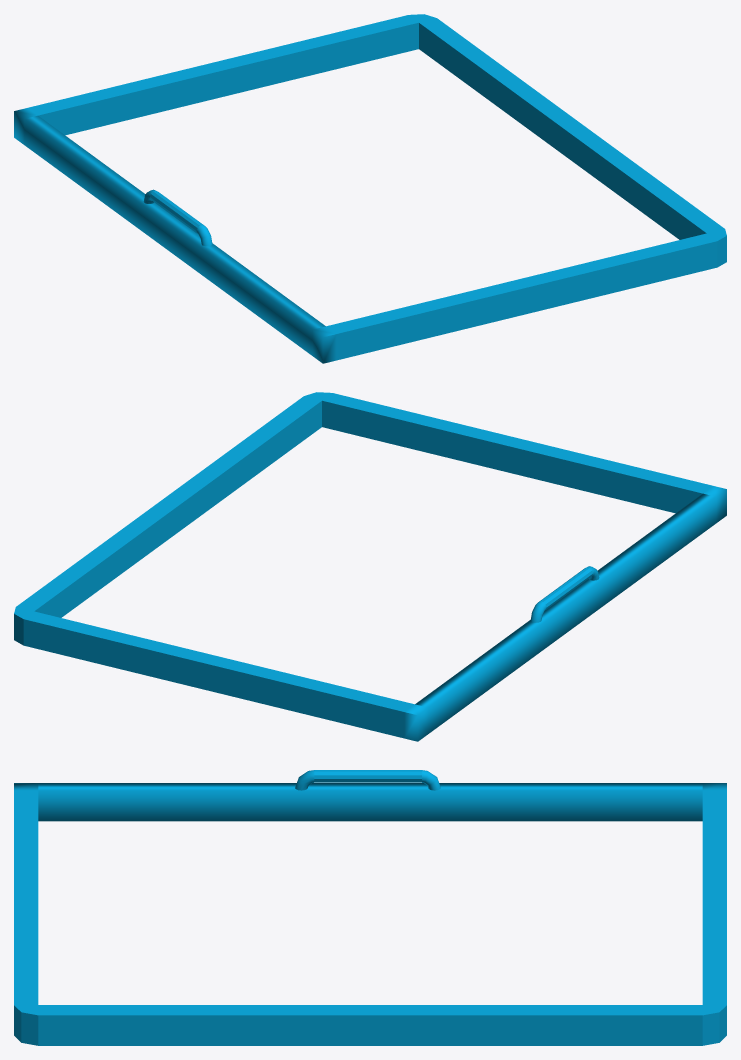
File: Shop_Fridge_02_Door_L_Lod0.fbx
3 views of the same model, one above another, from view 1: azimuth 30°, elevation 25°; view 2: azimuth 150°, elevation 25°; view 3: azimuth 270°, elevation 25° (orthographic). The views are drawn at different scales.
Visible parts, largest first — view 1: Shop_Fridge_02_Door_L_Lod0; view 2: Shop_Fridge_02_Door_L_Lod0; view 3: Shop_Fridge_02_Door_L_Lod0.
Part boxes in pixels (x1,y1,x2,y2): Shop_Fridge_02_Door_L_Lod0: [14, 14, 726, 363]; Shop_Fridge_02_Door_L_Lod0: [14, 392, 726, 741]; Shop_Fridge_02_Door_L_Lod0: [14, 770, 726, 1045].
Size of the model in its own units: 68.61 by 6.55 by 89.
